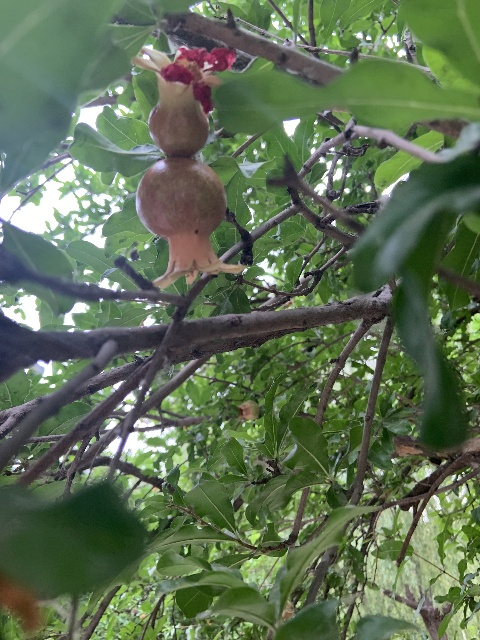early-fruit: (137, 156, 246, 289), (131, 43, 226, 156)
mid-growth: (236, 400, 259, 420)
